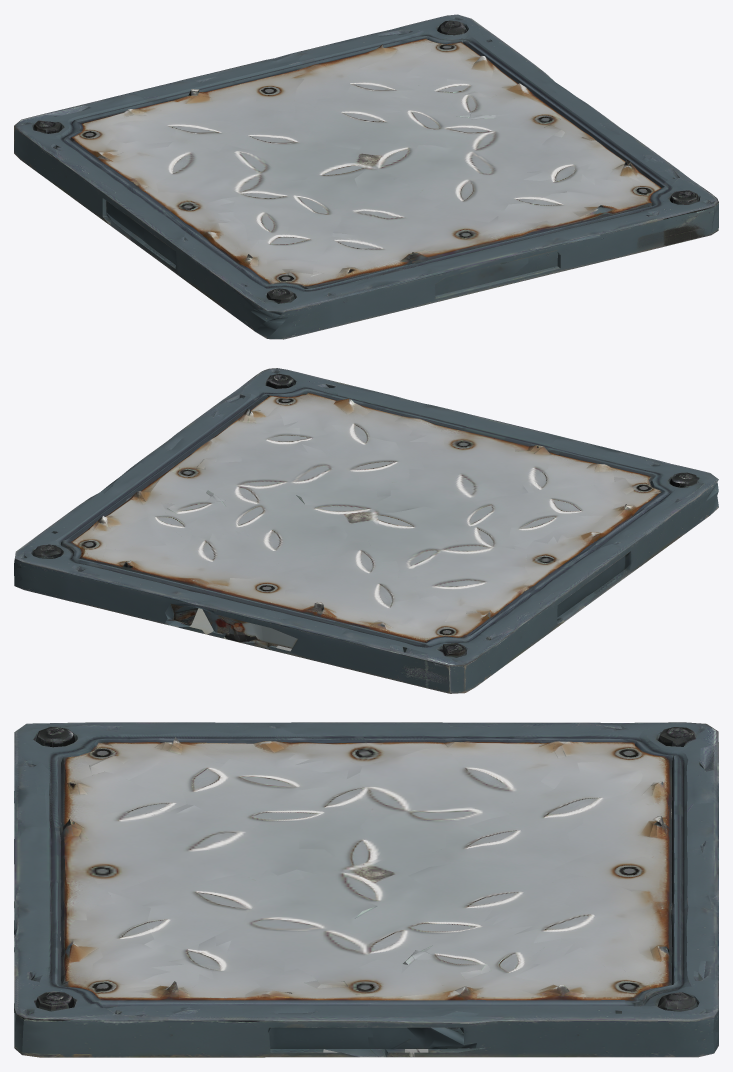
The model's file is floor_button.gltf.
3 renders of one model, top to bottom at view 1: azimuth 30°, elevation 25°; view 2: azimuth 150°, elevation 25°; view 3: azimuth 270°, elevation 25°, orthographic. The views are drawn at different scales.
Visible parts, largest first — view 1: Plate, Frame; view 2: Plate, Frame; view 3: Plate, Frame.
Boxes of the visible parts, box(x1,y1,x2,y2) form: Plate: box(64, 35, 668, 289); Frame: box(14, 14, 718, 339); Plate: box(63, 389, 668, 644); Frame: box(14, 368, 718, 693); Plate: box(69, 737, 663, 998); Frame: box(14, 722, 718, 1057).
Bounding box in the file's own units: 1.66 × 0.1317 × 1.66.
Materials: 1 (1 with a texture image).
